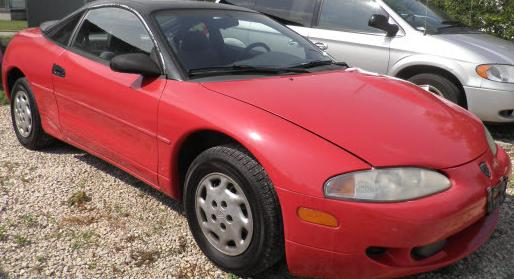front_view: (298, 102, 502, 267)
headlight: (317, 146, 456, 220)
side_glass: (41, 7, 178, 82)
